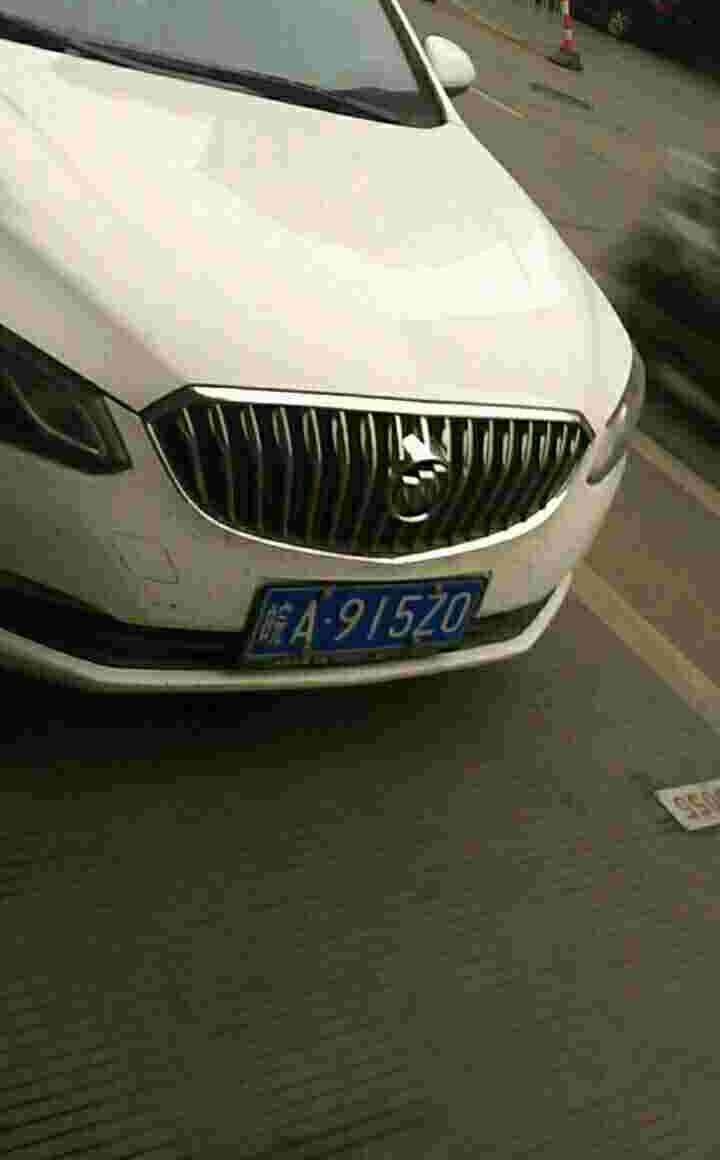license_plate: (257, 577, 482, 666)
